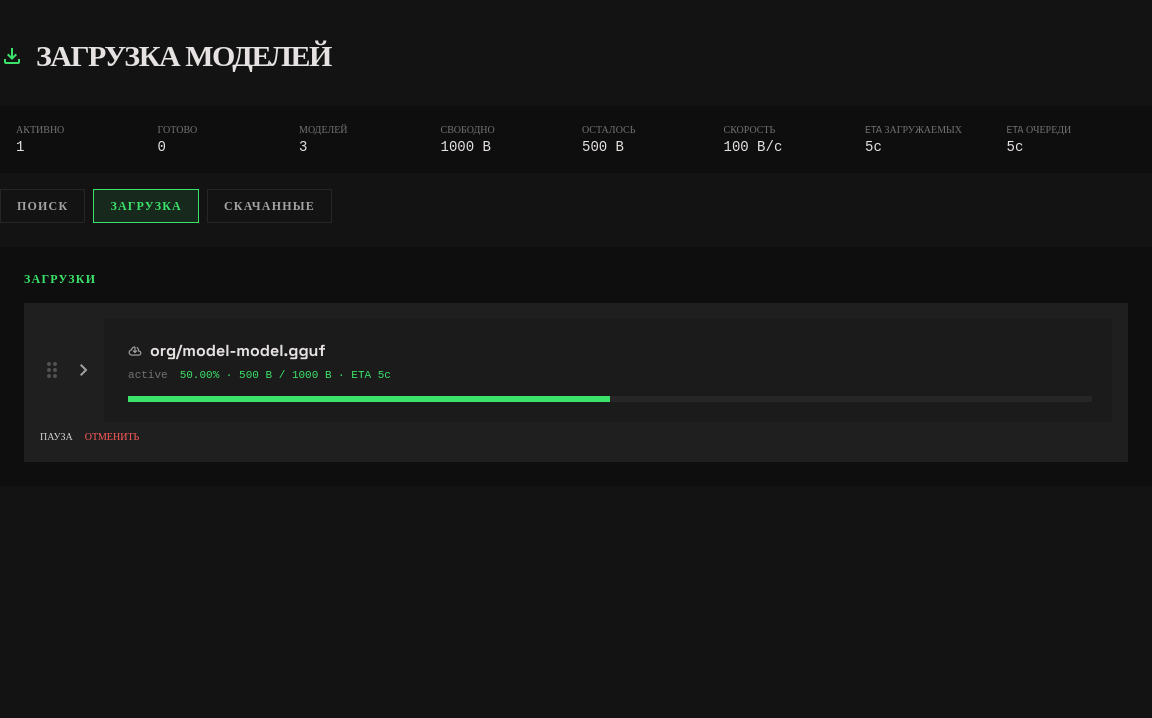
Test case: ModelDownloadsPage › раскрытая плитка показывает оба раздела: «Метаданные» и «Карточка модели»
The image size is (1152, 718).
Click the button with test id "download-row-toggle" at coordinates (608, 370), box x1=104 y1=319 x2=1112 y2=422
(page scrolled)
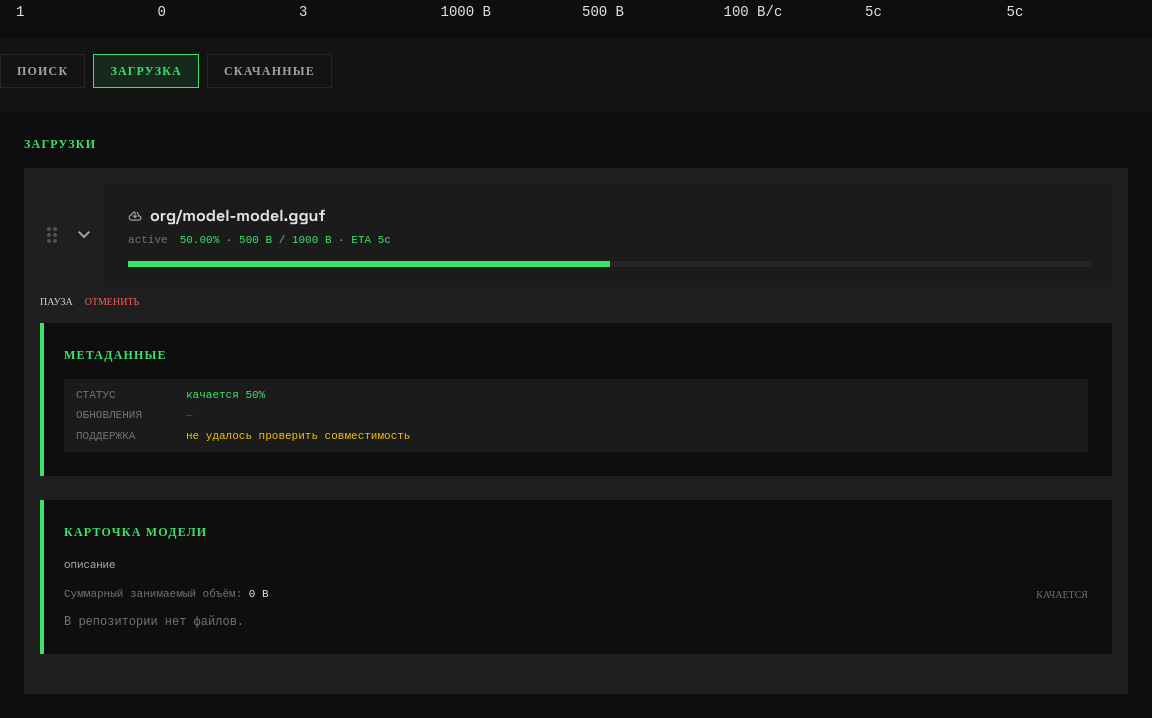
Expected: the element with test id "model-meta-info" is shown, x1=40 y1=322 x2=1112 y2=476
Expected: the element with test id "model-card" is shown, x1=40 y1=500 x2=1112 y2=654
